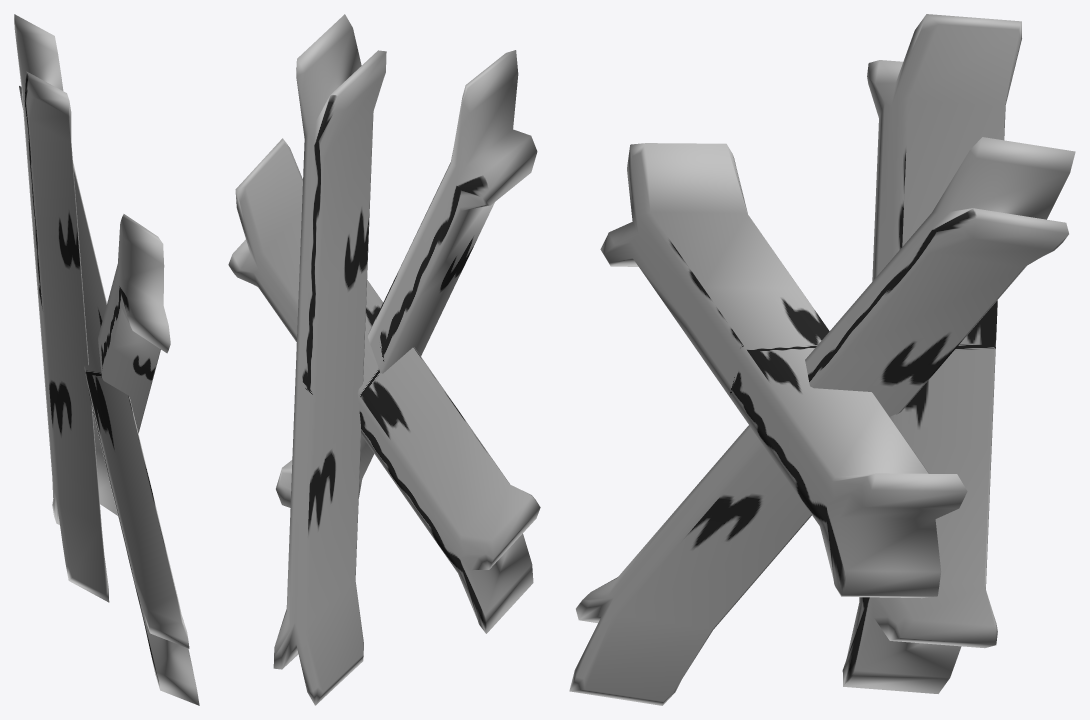
Rendered from item-sticks-or-bones.glb.
3 renders of one model, left to right at view 1: azimuth 30°, elevation 25°; view 2: azimuth 150°, elevation 25°; view 3: azimuth 270°, elevation 25°, orthographic. The views are drawn at different scales.
Size of the model in its own units: 1.57 by 14.46 by 9.56.
1 material, 1 textured.
